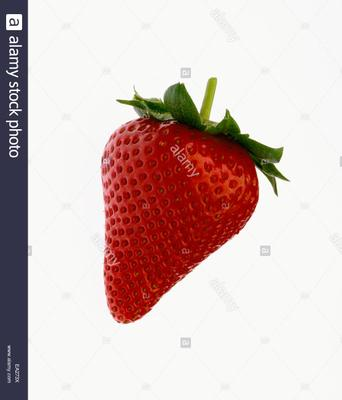strawberry: (0, 0, 342, 400)
